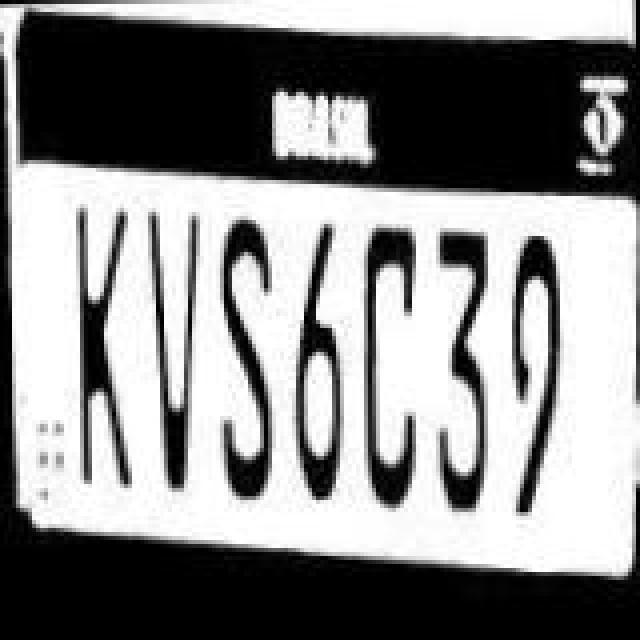3: (424, 220, 496, 516)
6: (278, 210, 354, 518)
9: (504, 226, 572, 514)
C: (358, 220, 426, 520)
K: (56, 200, 136, 508)
S: (202, 204, 278, 508)
V: (148, 204, 204, 500)
